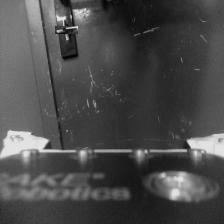Lock: (58, 22, 74, 38)
